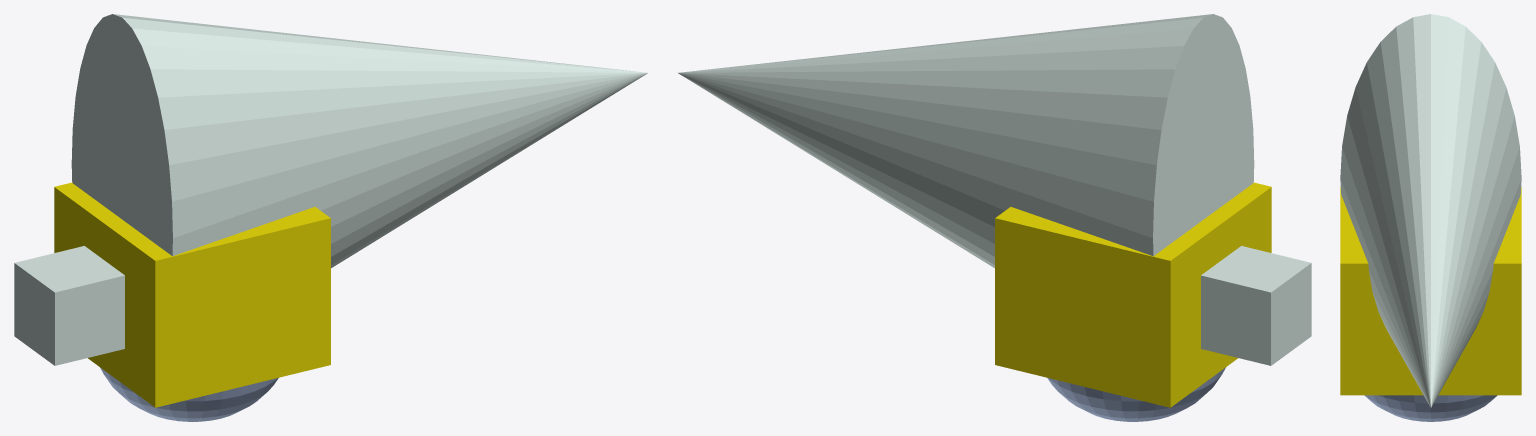
3 renders of one model, left to right at view 1: azimuth 30°, elevation 25°; view 2: azimuth 150°, elevation 25°; view 3: azimuth 270°, elevation 25°, orthographic. The views are drawn at different scales.
Visible parts, largest first — view 1: 锥体, 立方体, 小立方体, 球体; view 2: 锥体, 立方体, 小立方体, 球体; view 3: 锥体, 立方体, 球体.
Part boxes in pixels (box(x1,y1,x2,y2)): 锥体: box(71, 14, 647, 268); 立方体: box(54, 182, 330, 407); 小立方体: box(14, 246, 124, 365); 球体: box(100, 367, 278, 421); 锥体: box(678, 14, 1254, 268); 立方体: box(995, 182, 1271, 407); 小立方体: box(1201, 246, 1311, 365); 球体: box(1047, 367, 1225, 421); 锥体: box(1340, 14, 1521, 407); 立方体: box(1340, 187, 1521, 395); 球体: box(1364, 395, 1497, 421).
Size of the model in its own units: 350 by 224 by 100.
